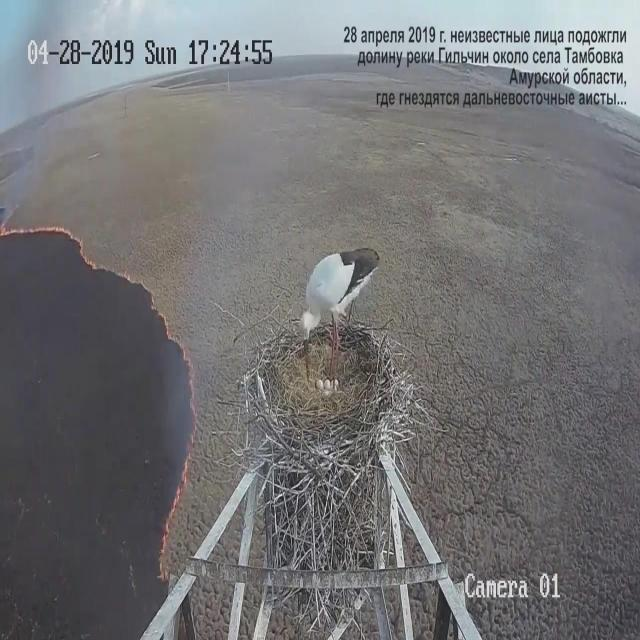Fire: (158, 310, 196, 430), (2, 222, 96, 268), (162, 452, 190, 552)
